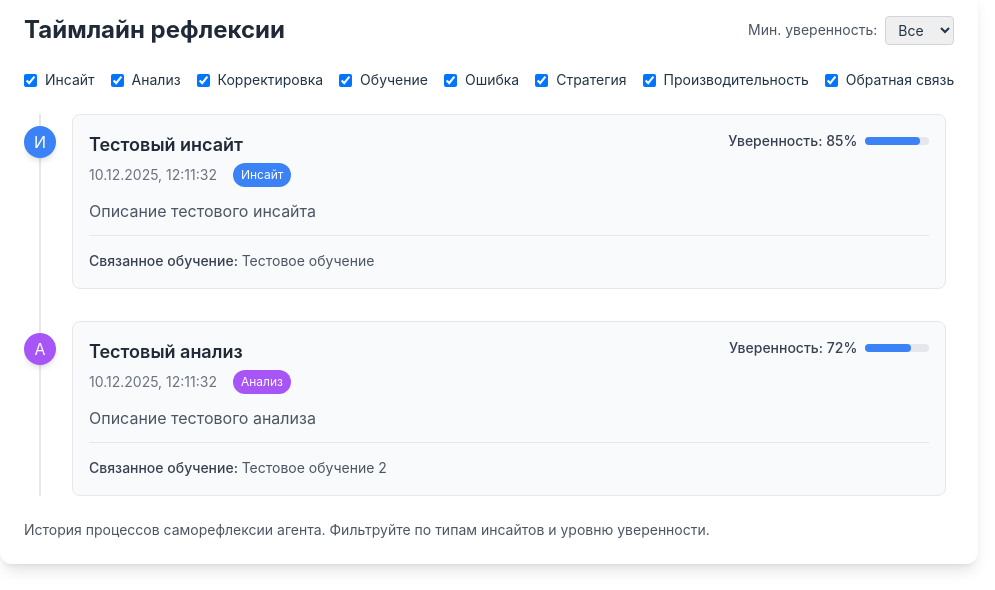
Scenario: ReflectionTimeline › displays no reflections message when filters exclude all items
Note: Снимаем все флажки фильтров
Click the checkbox labelled "Инсайт" at (30, 80), box [24,74,37,86]
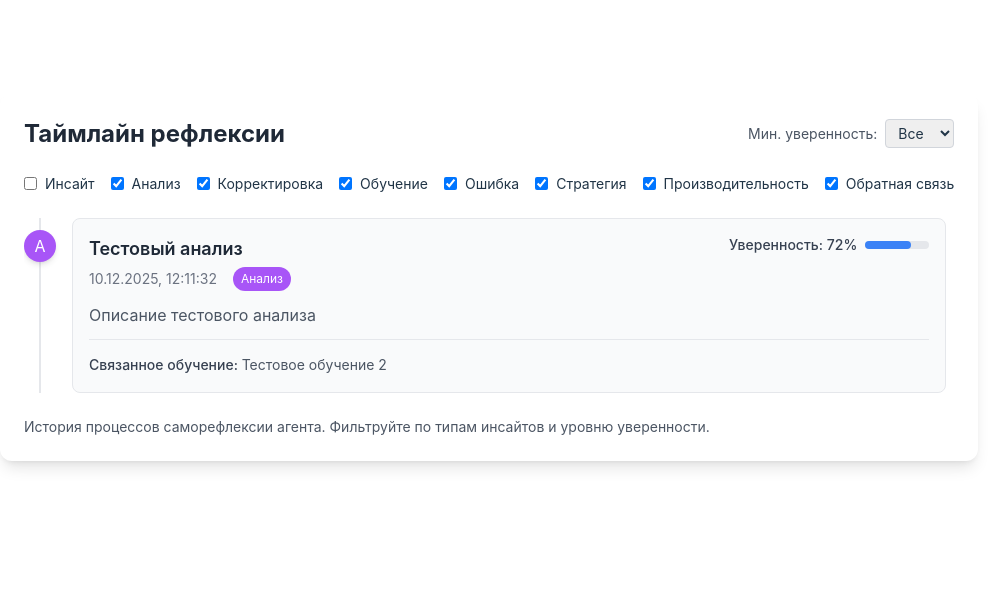
Click the checkbox labelled "Анализ" at (117, 184), box [111,177,124,190]
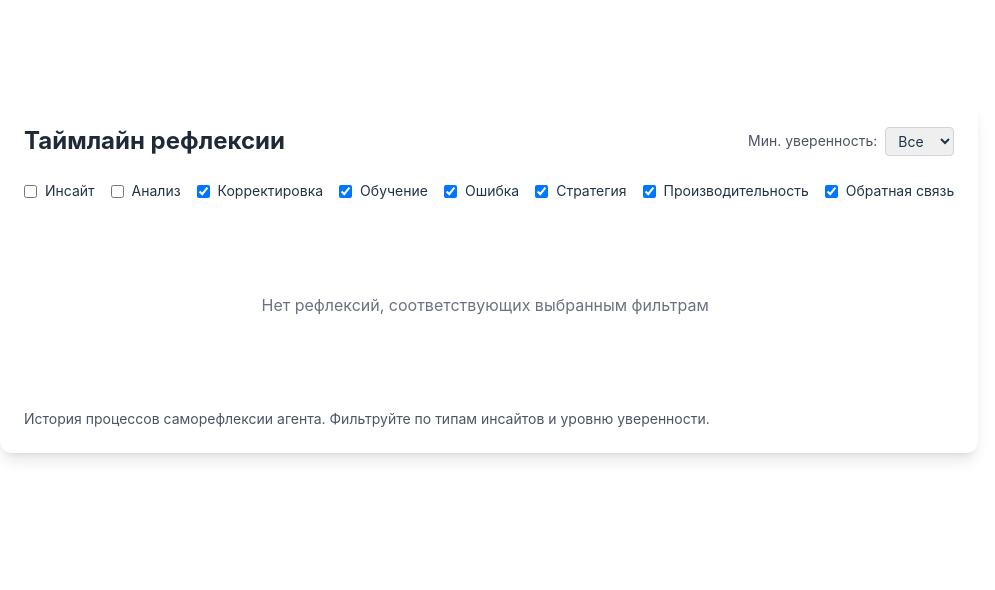
Check: the text "Нет рефлексий, соответствующих выбранным фильтрам" is shown, box [262,293,709,317]
